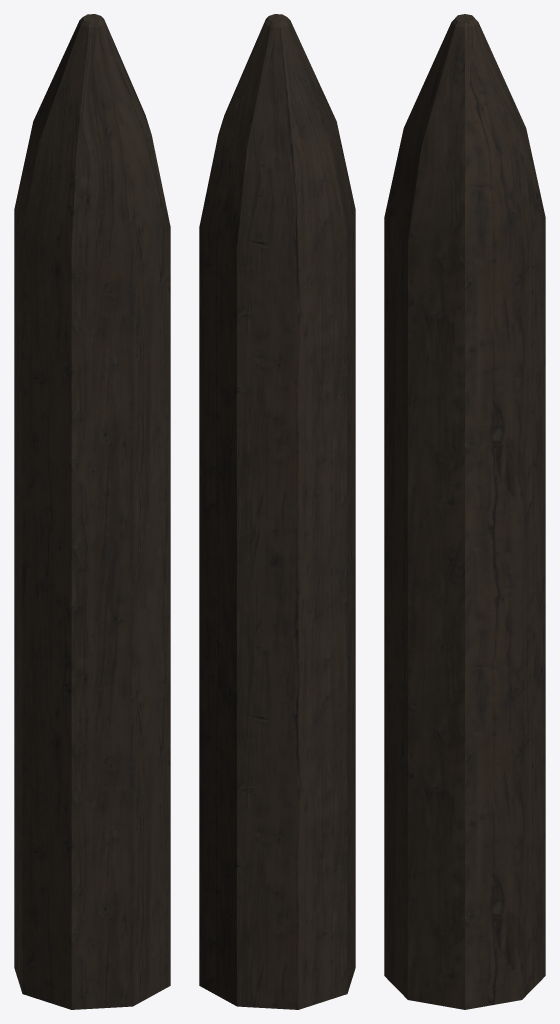
Rendered from Pale (1).FBX.
3 renders of one model, left to right at view 1: azimuth 30°, elevation 25°; view 2: azimuth 150°, elevation 25°; view 3: azimuth 270°, elevation 25°, orthographic.
Visible parts, largest first — view 1: Cylinder001; view 2: Cylinder001; view 3: Cylinder001.
Part boxes in pixels (x1,y1,x2,y2): Cylinder001: [14, 14, 170, 1009]; Cylinder001: [199, 14, 355, 1009]; Cylinder001: [384, 14, 545, 1009].
Size of the model in its own units: 10 by 65.46 by 10.
1 material, 1 textured.
